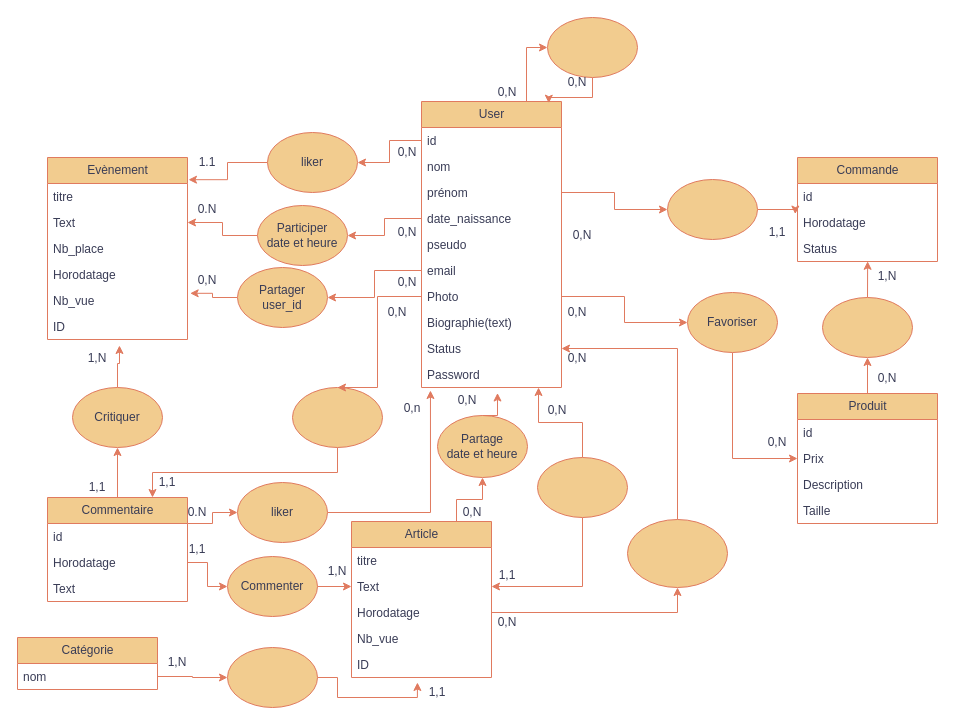
Image size: 955x725. Some labels were removed from this diagram. The shapes that lost their labels are listed below. From the top down, each one's centre as x and y in pixels, then its label:
At [592,47]: "Message date et heure compte".
At [712,209]: "Passer".
At [867,327]: "Contenir quantité".
At [337,417]: "Poster".
At [582,487]: "ecrire".
At [677,553]: "liker date et heure".
At [272,677]: "Décrire".
